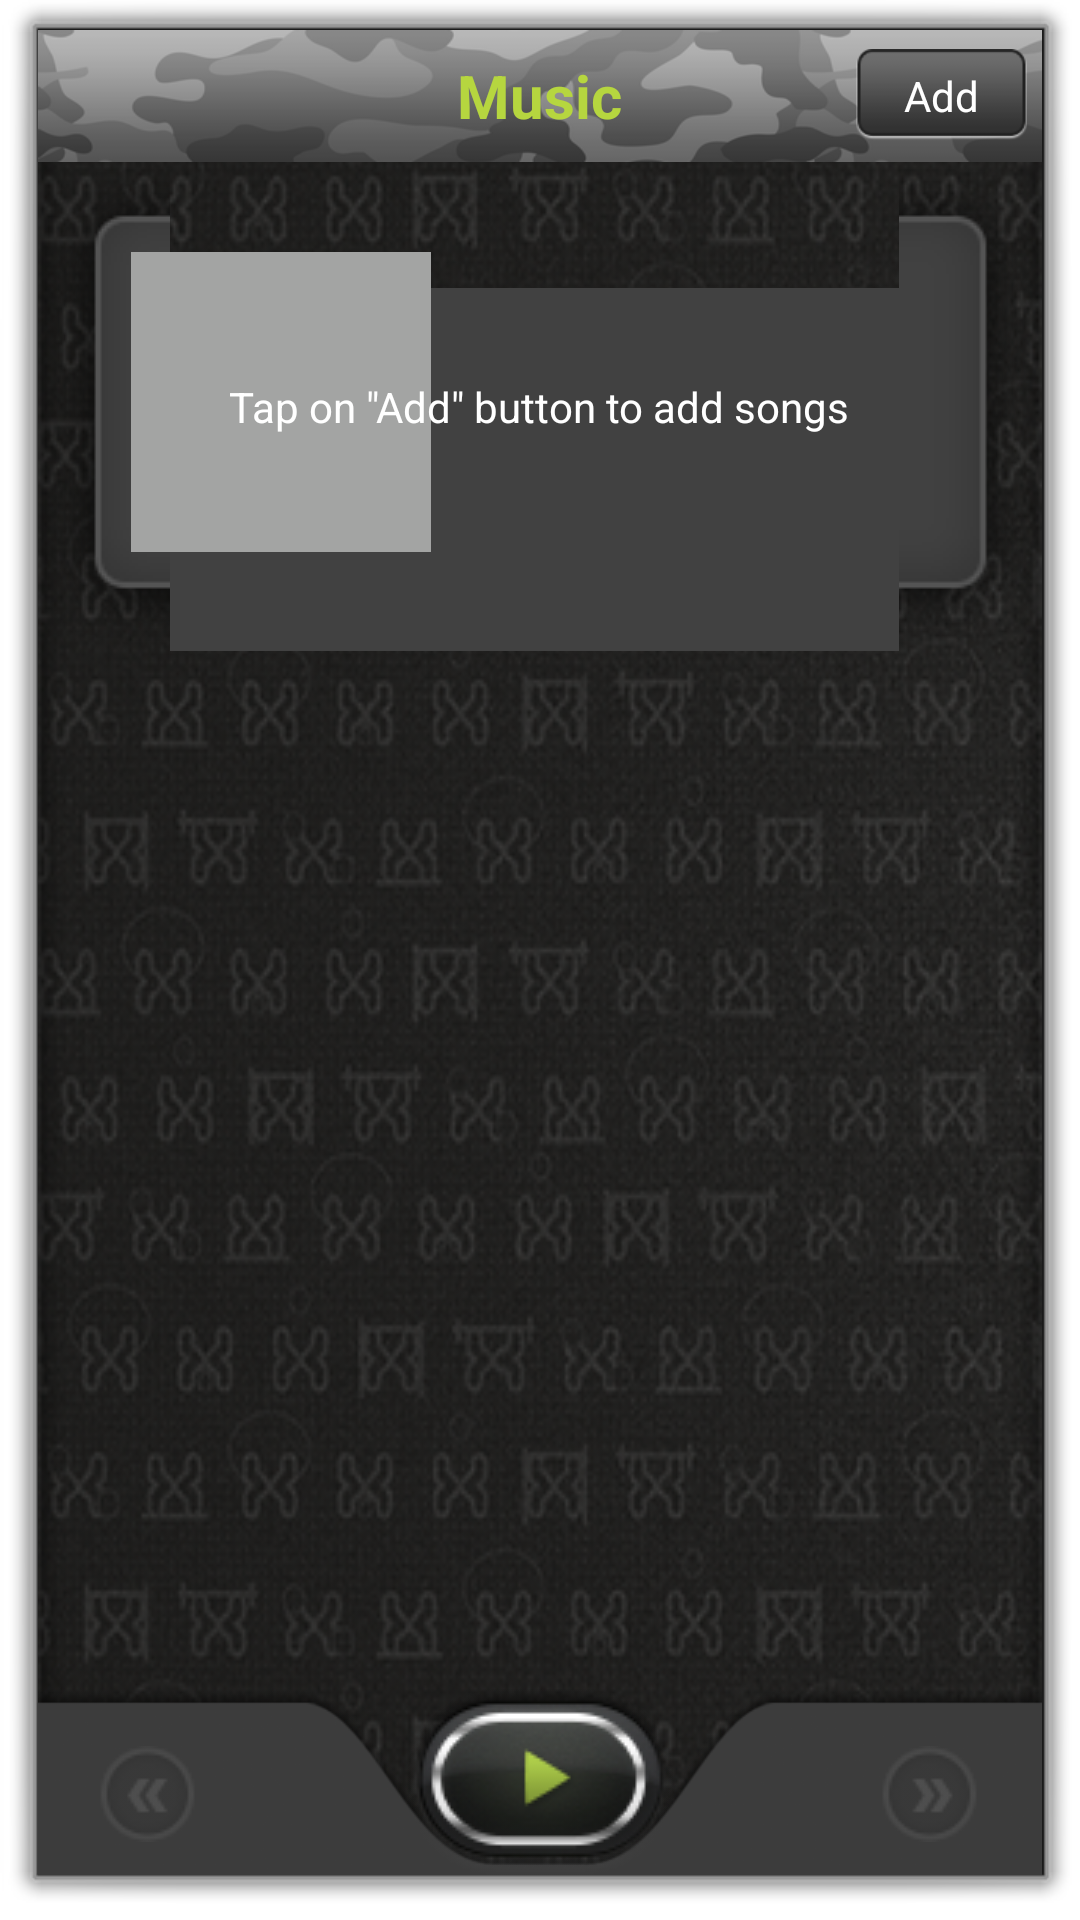

Point at icon controls on the screen. Image size 1080×1920, points as [x,y].
music play: [502,1775]
